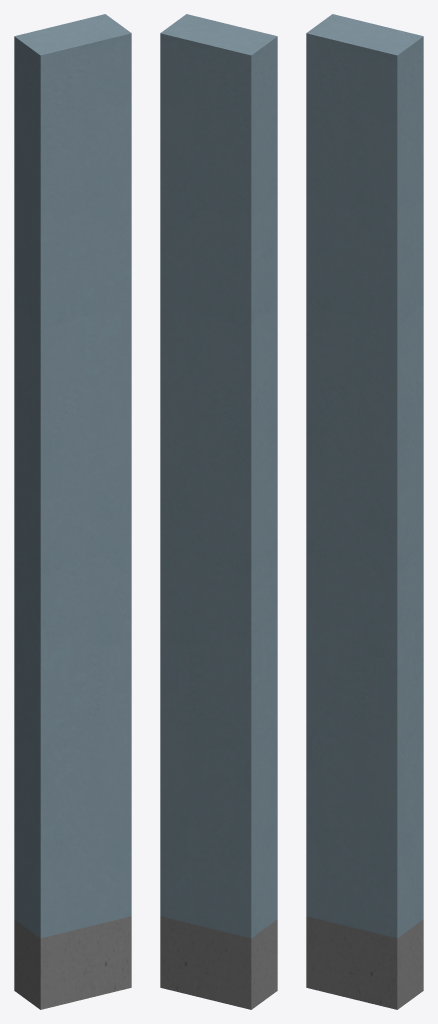
Rendered from column_1B.FBX.
3 views of the same model, side by side, from view 1: azimuth 30°, elevation 25°; view 2: azimuth 150°, elevation 25°; view 3: azimuth 330°, elevation 25° (orthographic).
Visible parts, largest first — view 1: column_1B; view 2: column_1B; view 3: column_1B.
Boxes of the visible parts, left/top/right/bottom form: column_1B: left=14, top=14, right=131, bottom=1009; column_1B: left=160, top=14, right=277, bottom=1009; column_1B: left=306, top=14, right=423, bottom=1009.
Size of the model in its own units: 3 by 30 by 1.5.
